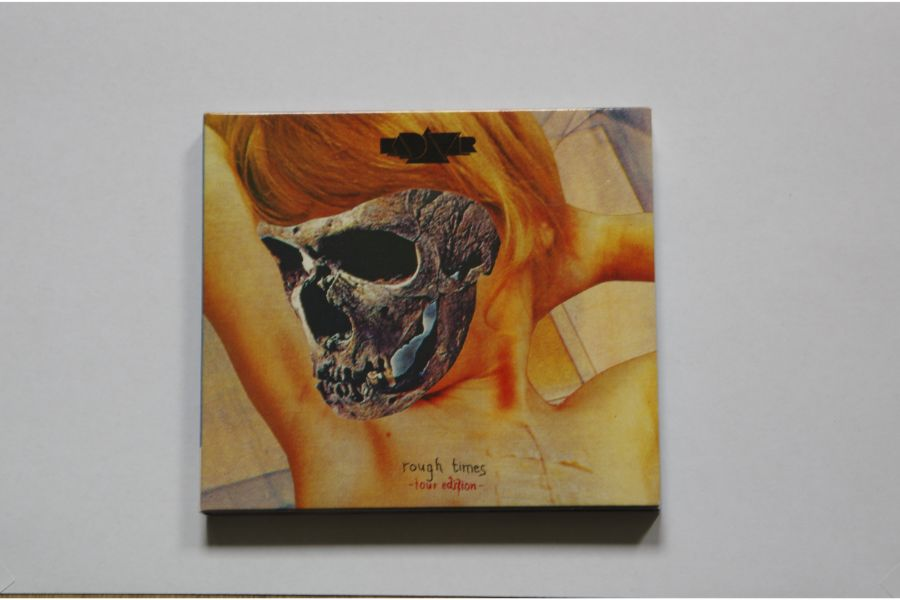album: (199, 112, 659, 512)
